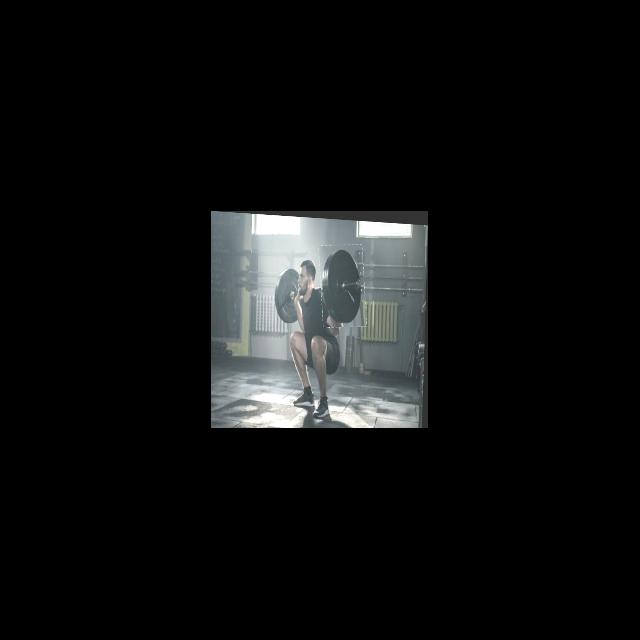barbell: (319, 241, 367, 327)
